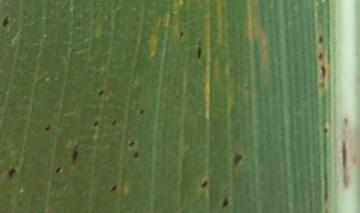tarspot: (340, 139, 350, 188), (69, 145, 80, 168), (218, 193, 232, 211), (193, 41, 204, 62), (231, 151, 244, 167), (6, 166, 18, 180), (1, 15, 12, 29), (320, 126, 333, 137), (199, 177, 210, 190), (126, 138, 138, 149), (53, 164, 64, 176), (109, 182, 118, 195), (320, 64, 327, 79), (341, 117, 350, 128), (317, 34, 326, 44), (176, 29, 185, 38), (91, 119, 100, 128), (43, 123, 52, 132), (317, 50, 325, 60), (131, 151, 141, 159), (138, 108, 146, 117), (16, 200, 25, 208), (318, 82, 327, 89), (96, 89, 105, 96), (111, 119, 118, 126)
